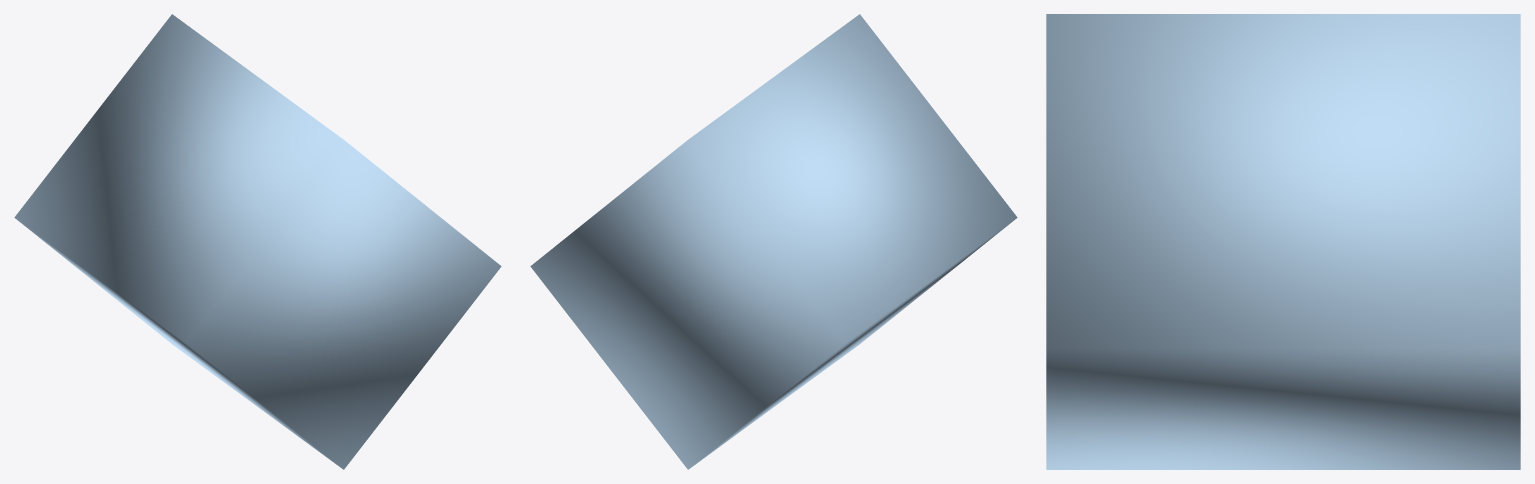
The model's file is orthoclase.glb.
The picture shows the model from 3 angles, left to right: view 1: azimuth 30°, elevation 25°; view 2: azimuth 150°, elevation 25°; view 3: azimuth 270°, elevation 25°; orthographic projection. The views are drawn at different scales.
Parts seen in each view (by area): view 1: orthoclase; view 2: orthoclase; view 3: orthoclase.
Part boxes in pixels (bbox=[...]): orthoclase: bbox=[14, 14, 501, 469]; orthoclase: bbox=[530, 14, 1017, 469]; orthoclase: bbox=[1046, 14, 1520, 469].
Size of the model in its own units: 1.7 by 1.7 by 1.6.
